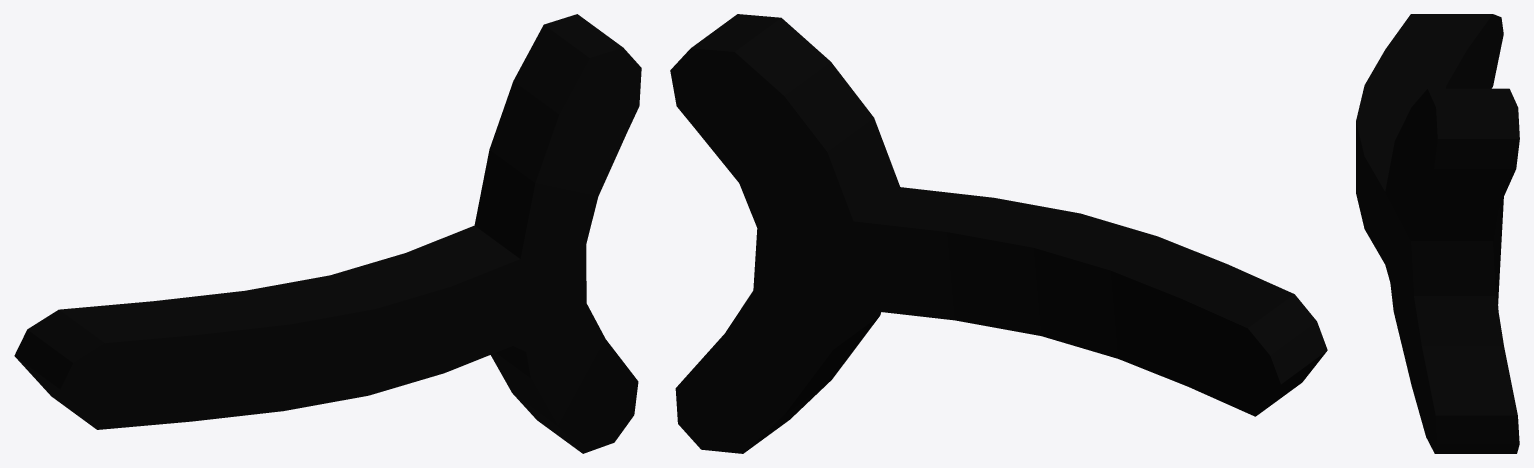
Rendered from mouth_06.fbx.
3 renders of one model, left to right at view 1: azimuth 30°, elevation 25°; view 2: azimuth 150°, elevation 25°; view 3: azimuth 270°, elevation 25°, orthographic. The views are drawn at different scales.
Parts seen in each view (by area): view 1: Mouth_06; view 2: Mouth_06; view 3: Mouth_06.
Boxes of the visible parts, left/top/right/bottom form: Mouth_06: left=14, top=14, right=641, bottom=453; Mouth_06: left=670, top=14, right=1327, bottom=453; Mouth_06: left=1356, top=14, right=1519, bottom=453.
Bounding box in the file's own units: 35.96 × 22.95 × 9.67.
